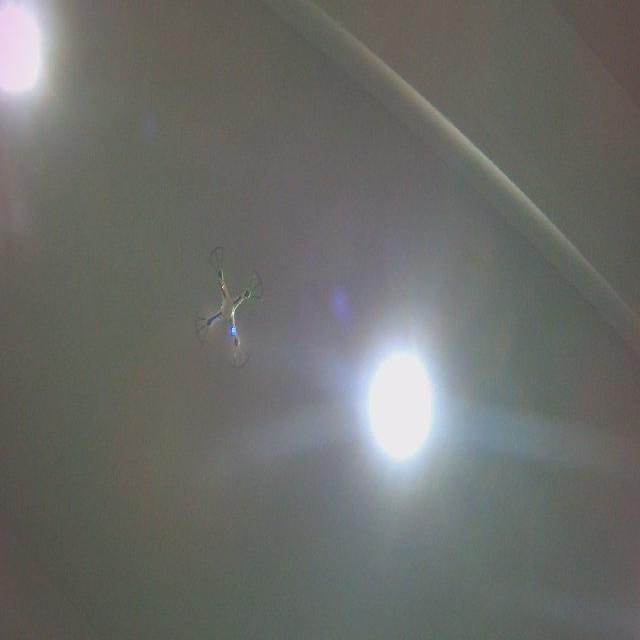drone: (192, 244, 266, 374)
